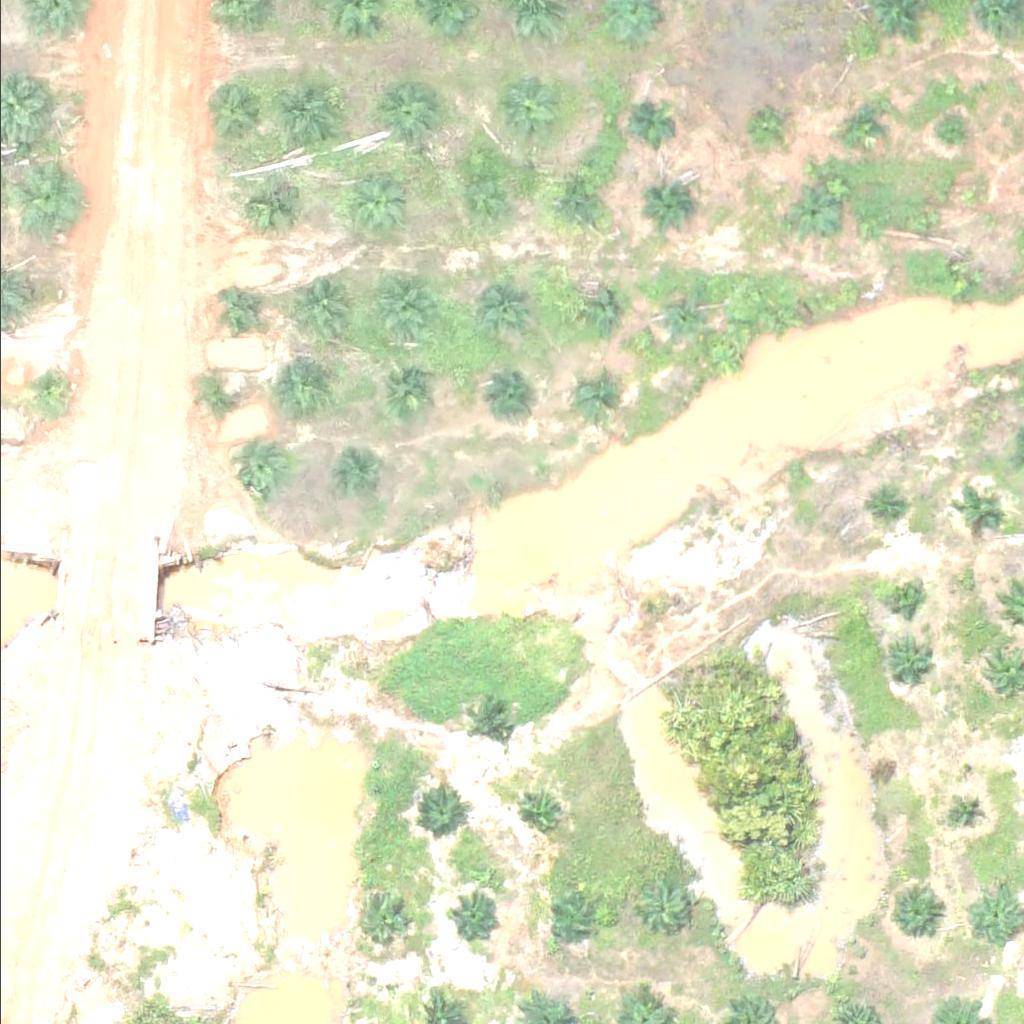Kelapa_Sawit: (442, 160, 505, 223), (466, 275, 529, 338), (369, 273, 432, 336), (200, 80, 263, 143), (19, 169, 82, 232), (273, 360, 336, 423), (288, 274, 351, 337), (495, 82, 558, 144), (278, 84, 341, 146), (374, 81, 437, 143), (336, 170, 399, 232), (238, 175, 301, 237), (378, 360, 441, 422), (881, 880, 944, 942), (215, 287, 266, 337), (194, 373, 245, 423), (632, 883, 683, 933), (549, 894, 600, 944), (451, 894, 502, 944), (836, 99, 887, 149), (480, 376, 530, 426), (649, 183, 699, 233), (624, 101, 674, 151), (654, 290, 704, 340), (785, 189, 835, 239), (569, 286, 619, 336), (570, 372, 620, 422), (412, 785, 462, 835), (229, 444, 279, 494), (334, 454, 384, 504), (21, 366, 71, 416), (351, 896, 401, 946), (516, 788, 566, 838), (460, 697, 510, 747), (545, 180, 595, 230), (882, 638, 932, 688), (759, 298, 797, 336), (748, 110, 786, 148), (958, 488, 996, 526), (867, 489, 905, 527), (884, 576, 922, 614), (907, 202, 945, 240), (947, 795, 985, 832), (945, 266, 983, 303), (927, 112, 964, 149)
